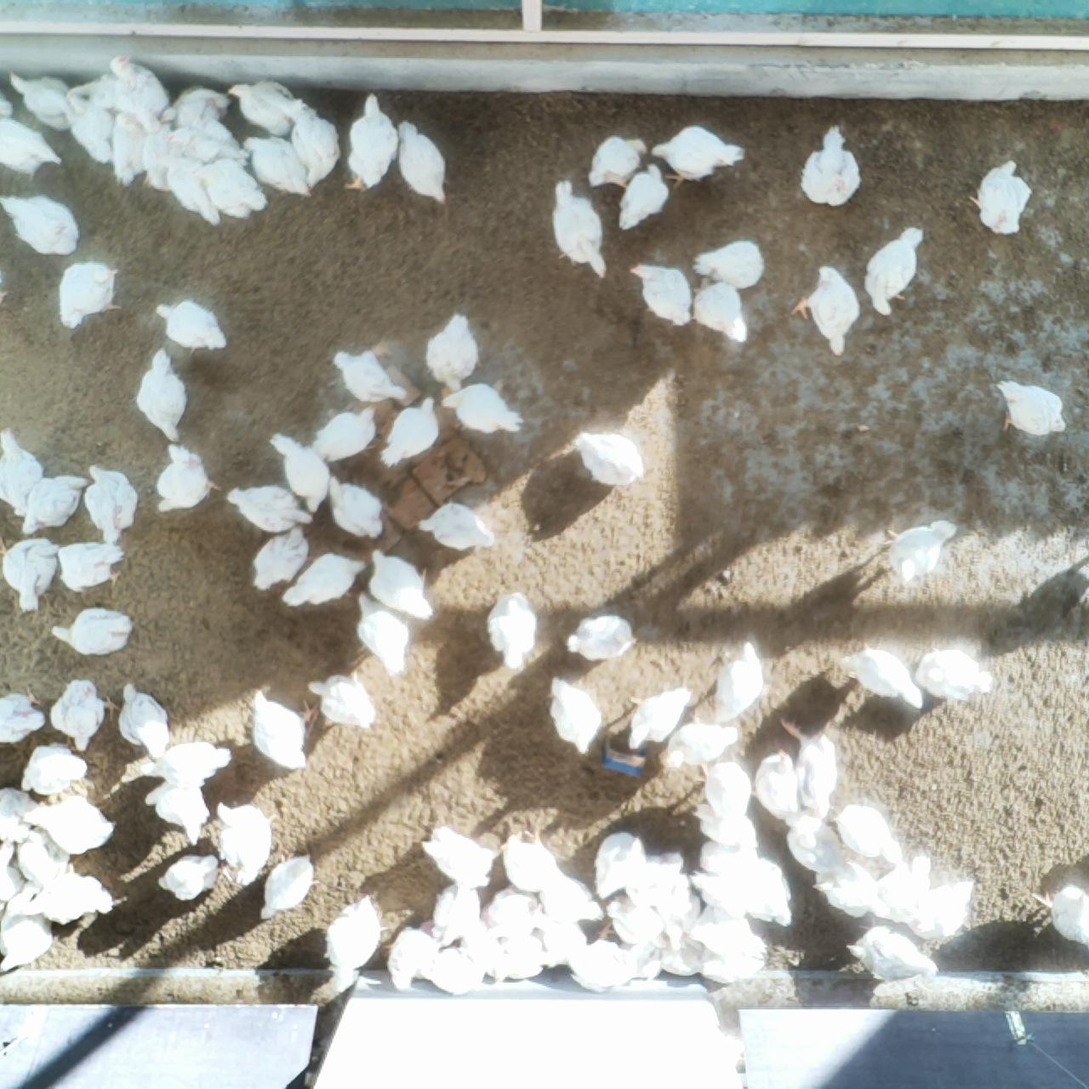chicken: (789, 260, 864, 361), (844, 916, 941, 992), (650, 120, 750, 193), (833, 640, 925, 713), (566, 921, 654, 997), (549, 175, 611, 282), (323, 890, 387, 993), (74, 54, 173, 120), (247, 687, 320, 775), (781, 715, 842, 820), (795, 121, 866, 211), (862, 221, 927, 319), (694, 905, 772, 985), (23, 795, 118, 859), (212, 795, 277, 888), (132, 346, 192, 446), (344, 92, 400, 197), (9, 871, 116, 925), (351, 587, 413, 677), (967, 156, 1035, 238), (268, 429, 332, 515), (48, 676, 120, 752), (418, 822, 497, 891), (692, 874, 792, 928), (369, 544, 436, 624), (810, 855, 891, 921), (441, 378, 528, 439), (0, 192, 80, 258), (992, 376, 1072, 441), (241, 129, 314, 199), (280, 551, 368, 609), (395, 118, 453, 205), (0, 887, 56, 977), (155, 444, 222, 519), (152, 296, 233, 358), (0, 533, 61, 615), (422, 311, 483, 393), (880, 520, 958, 584), (82, 460, 140, 546), (570, 426, 648, 489), (54, 259, 123, 330), (907, 875, 978, 944), (308, 666, 381, 733), (914, 645, 996, 704), (626, 260, 694, 331), (115, 678, 173, 761), (194, 158, 270, 221), (142, 778, 211, 847), (19, 474, 94, 537), (378, 394, 440, 470), (784, 813, 850, 884), (225, 482, 315, 534), (547, 674, 604, 756), (629, 683, 693, 756), (332, 347, 411, 406), (484, 589, 540, 672), (137, 740, 233, 788), (500, 823, 563, 896), (288, 107, 342, 191), (831, 799, 904, 861), (19, 738, 97, 796), (225, 78, 299, 138), (715, 639, 767, 724), (690, 275, 753, 345), (258, 850, 318, 923), (251, 521, 311, 594), (50, 607, 136, 657), (58, 93, 116, 167), (168, 153, 224, 229), (0, 424, 45, 518), (416, 499, 497, 551), (7, 70, 76, 131), (56, 539, 128, 597), (329, 471, 387, 542), (167, 115, 249, 165), (0, 114, 64, 178), (614, 160, 670, 233), (656, 720, 741, 768), (309, 404, 378, 463), (602, 895, 670, 954), (691, 238, 768, 290), (589, 828, 647, 897), (13, 822, 73, 887), (1030, 881, 1089, 947), (880, 853, 935, 921), (562, 610, 638, 659), (586, 132, 648, 192), (686, 794, 757, 846), (483, 926, 549, 981), (158, 80, 233, 127), (156, 849, 220, 903), (108, 115, 154, 190), (539, 874, 605, 926), (628, 850, 690, 904), (757, 748, 802, 821), (430, 882, 479, 949), (699, 760, 754, 819), (387, 924, 435, 991), (481, 882, 540, 934), (0, 684, 49, 745), (430, 948, 488, 998), (538, 912, 588, 969), (663, 914, 707, 978), (139, 122, 178, 194), (461, 919, 504, 981), (694, 840, 764, 877), (0, 784, 41, 846)
